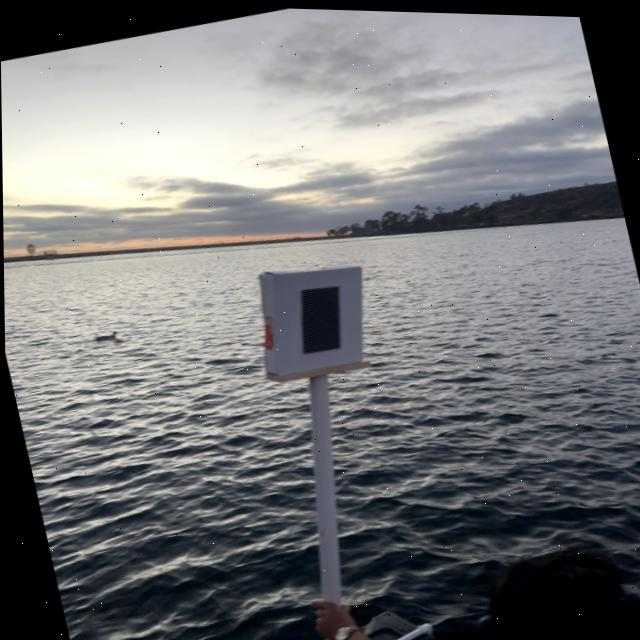led: (269, 260, 363, 375)
